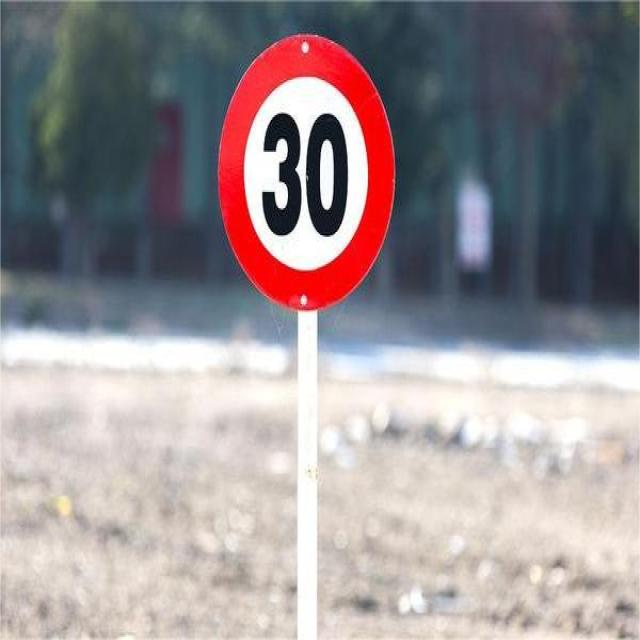speed limit 30: (216, 31, 398, 311)
